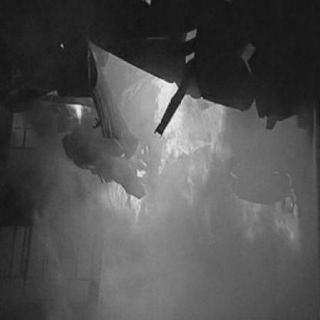Fire: (103, 96, 301, 270)
